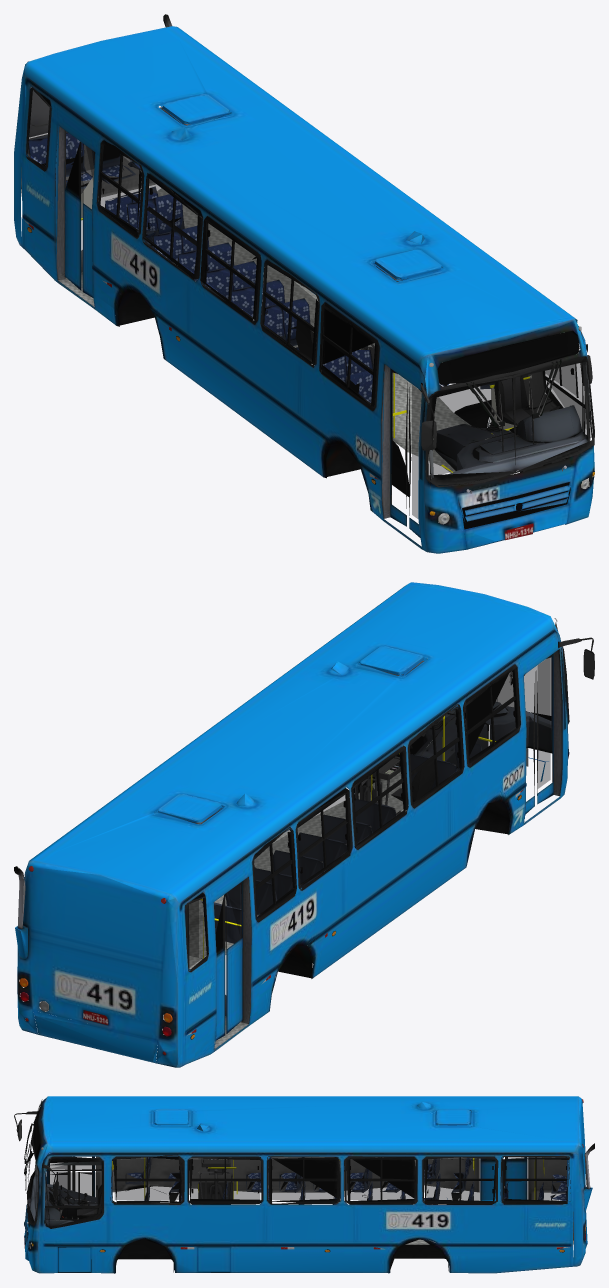
The model's file is onibus_busscar.glb.
The picture shows the model from 3 angles, top to bottom: view 1: azimuth 30°, elevation 25°; view 2: azimuth 150°, elevation 25°; view 3: azimuth 270°, elevation 25°; orthographic projection. The views are drawn at different scales.
Parts seen in each view (by area): view 1: veiculo; view 2: veiculo; view 3: veiculo.
Part boxes in pixels (x1=…): veiculo: x1=14, y1=14, x2=594, y2=553; veiculo: x1=14, y1=582, x2=594, y2=1067; veiculo: x1=14, y1=1096, x2=594, y2=1273.
Size of the model in its own units: 3 by 2.93 by 11.5.
Materials: 139 (126 with a texture image).
